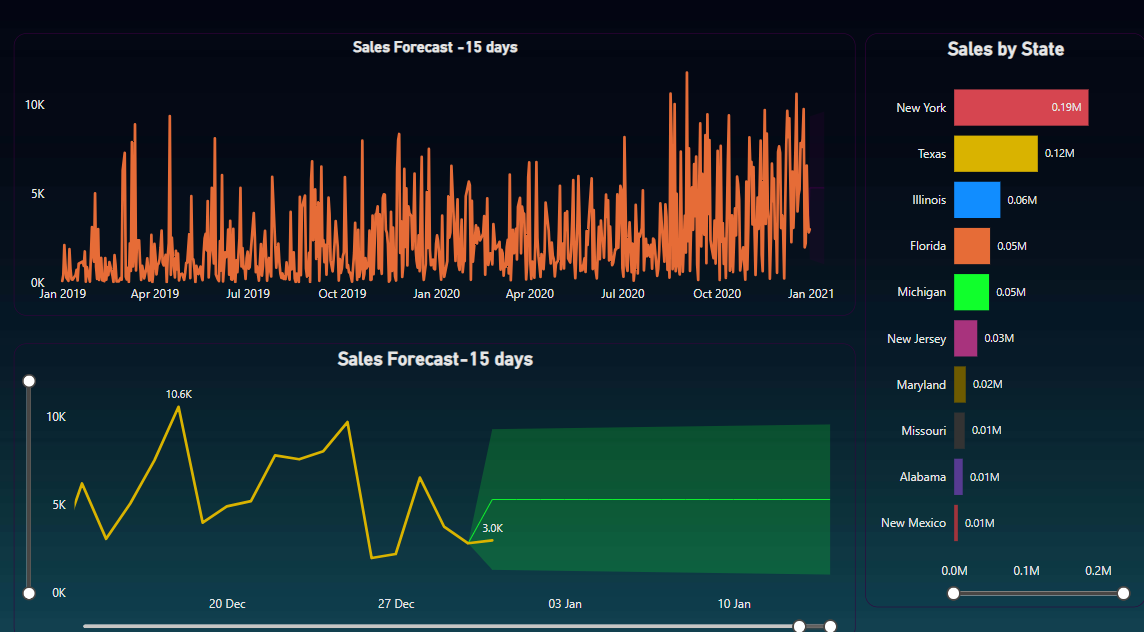

Layout of this report page (visuals, bound fields, positions):
{"tool":"powerbi","page":{"name":"Page 2","canvas":[1280,720],"ordinal":1},"visuals":[{"type":"lineChart","title":"Sales Forecast-15 days","fields":{"Y":["Sum(SuperStore_Sales_Dataset.Sales)"],"Category":["SuperStore_Sales_Dataset.Order Date"]},"box":[22,390,936,330],"z":0},{"type":"lineChart","title":"Sales Forecast -15 days","fields":{"Y":["Sum(SuperStore_Sales_Dataset.Sales)"],"Category":["SuperStore_Sales_Dataset.Order Date"]},"box":[22,46,936,314],"z":1000},{"type":"clusteredBarChart","title":"Sales by State","fields":{"Category":["SuperStore_Sales_Dataset.State"],"Y":["Sum(SuperStore_Sales_Dataset.Sales)"]},"box":[968,46,312,638],"z":2000}]}

Visuals, with their boxes in screenshot pixels (x1, y1, x2, y2), scaled from the page's 1280x720 canvas onto the 1144x632 screenshot:
"Sales Forecast-15 days" lineChart: rect(20, 342, 856, 631)
"Sales Forecast -15 days" lineChart: rect(20, 40, 856, 316)
"Sales by State" clusteredBarChart: rect(865, 40, 1143, 600)
